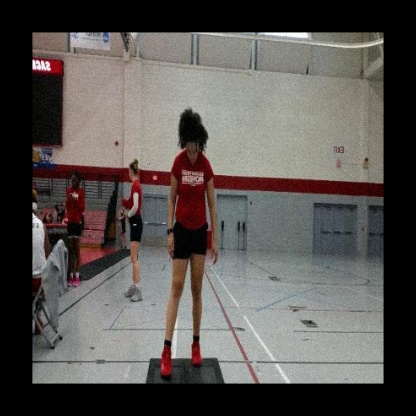lateral_flexion_right: (157, 104, 220, 382)
stance_width_normal: (158, 144, 220, 383)
